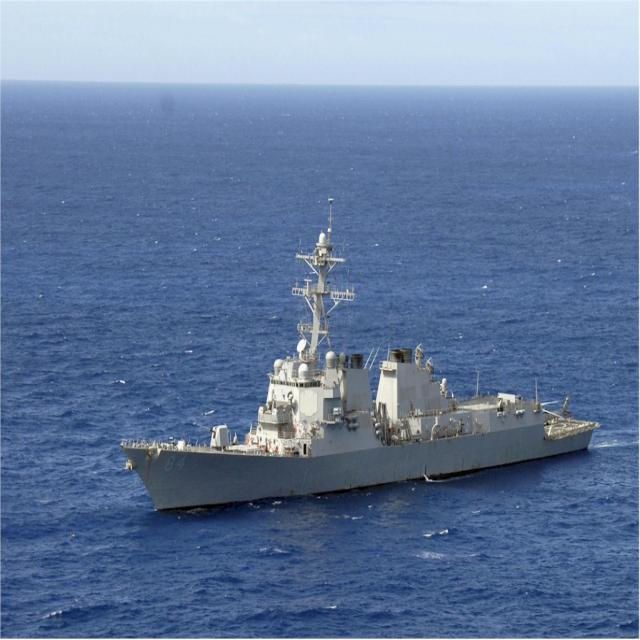navalvessels: (111, 171, 603, 518)
